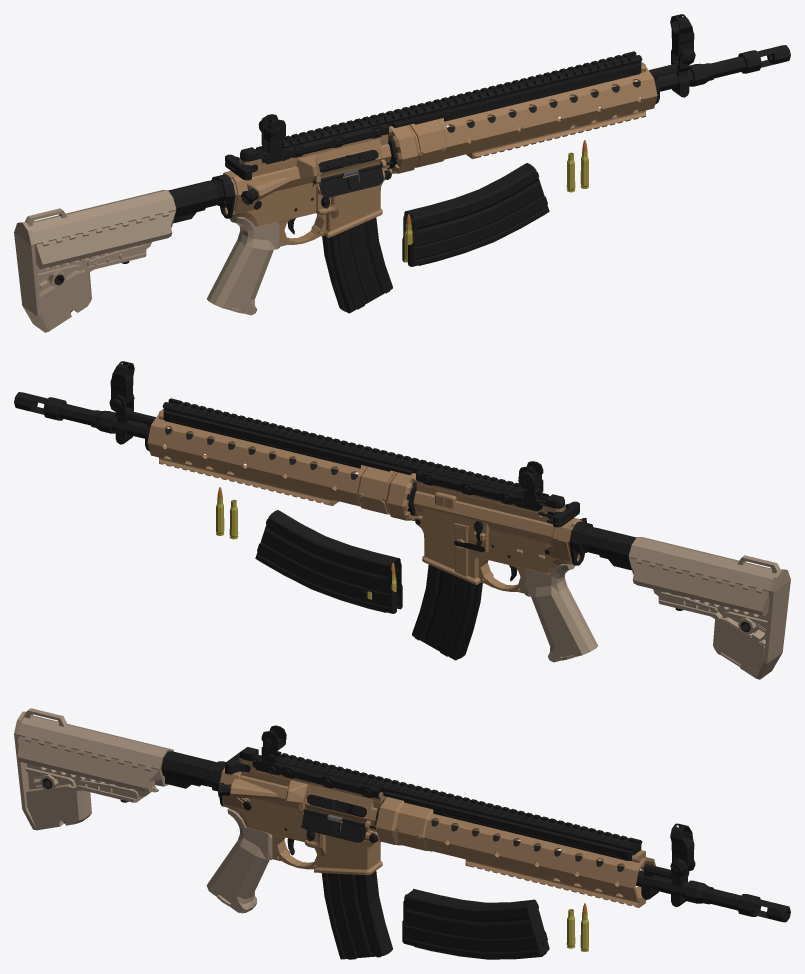
Rendered from gub.glb.
3 views of the same model, one above another, from view 1: azimuth 30°, elevation 25°; view 2: azimuth 150°, elevation 25°; view 3: azimuth 330°, elevation 25° (orthographic).
Parts seen in each view (by area): view 1: mk12a5 stock_10, mk12a5 handguard (bcm)_4, mk12a5 top rail_6, 55645 ar15 30rnd mag (steel)_8, mk12a5 lower receiver_15, 55645 ar15 30rnd mag empty (steel)_19, mk12a5 upper receiver_18, mk12a5 pistol grip_3, mk12a5 flash hider_5, mk12a5 barrel 18in _2, mk12a5 back iron sight_7, mk12a5 dust covet.002_11 (+2 smaller); view 2: mk12a5 stock_10, mk12a5 handguard (bcm)_4, mk12a5 top rail_6, 55645 ar15 30rnd mag (steel)_8, mk12a5 lower receiver_15, mk12a5 upper receiver_18, 55645 ar15 30rnd mag empty (steel)_19, mk12a5 pistol grip_3, mk12a5 flash hider_5, mk12a5 barrel 18in _2, mk12a5 back iron sight_7, mk12a5 front iron sight_9; view 3: mk12a5 stock_10, mk12a5 handguard (bcm)_4, mk12a5 top rail_6, 55645 ar15 30rnd mag (steel)_8, mk12a5 lower receiver_15, 55645 ar15 30rnd mag empty (steel)_19, mk12a5 upper receiver_18, mk12a5 pistol grip_3, mk12a5 flash hider_5, mk12a5 barrel 18in _2, mk12a5 dust covet.002_11, mk12a5 back iron sight_7 (+2 smaller).
Boxes of the visible parts, <box> form: mk12a5 stock_10: <box>14,190,176,332</box>; mk12a5 handguard (bcm)_4: <box>387,62,657,173</box>; mk12a5 top rail_6: <box>279,51,642,157</box>; 55645 ar15 30rnd mag (steel)_8: <box>402,163,549,266</box>; mk12a5 lower receiver_15: <box>168,168,391,246</box>; 55645 ar15 30rnd mag empty (steel)_19: <box>322,217,392,313</box>; mk12a5 upper receiver_18: <box>239,130,391,204</box>; mk12a5 pistol grip_3: <box>207,217,279,315</box>; mk12a5 flash hider_5: <box>689,45,790,86</box>; mk12a5 barrel 18in _2: <box>377,47,695,154</box>; mk12a5 back iron sight_7: <box>240,114,289,164</box>; mk12a5 dust covet.002_11: <box>313,161,393,197</box>; mk12a5 stock_10: <box>628,537,790,679</box>; mk12a5 handguard (bcm)_4: <box>147,409,417,520</box>; mk12a5 top rail_6: <box>162,398,525,504</box>; 55645 ar15 30rnd mag (steel)_8: <box>255,510,402,613</box>; mk12a5 lower receiver_15: <box>415,515,636,593</box>; mk12a5 upper receiver_18: <box>413,477,586,546</box>; 55645 ar15 30rnd mag empty (steel)_19: <box>412,564,482,660</box>; mk12a5 pistol grip_3: <box>525,564,597,662</box>; mk12a5 flash hider_5: <box>14,392,115,433</box>; mk12a5 barrel 18in _2: <box>109,394,357,479</box>; mk12a5 back iron sight_7: <box>515,461,564,511</box>; mk12a5 front iron sight_9: <box>110,361,134,408</box>; mk12a5 stock_10: <box>14,708,173,830</box>; mk12a5 handguard (bcm)_4: <box>375,796,655,907</box>; mk12a5 top rail_6: <box>275,753,642,860</box>; 55645 ar15 30rnd mag (steel)_8: <box>402,888,549,959</box>; mk12a5 lower receiver_15: <box>161,751,382,875</box>; 55645 ar15 30rnd mag empty (steel)_19: <box>321,871,392,959</box>; mk12a5 upper receiver_18: <box>218,757,385,831</box>; mk12a5 pistol grip_3: <box>206,808,272,913</box>; mk12a5 flash hider_5: <box>684,880,790,922</box>; mk12a5 barrel 18in _2: <box>383,798,695,906</box>; mk12a5 dust covet.002_11: <box>298,808,375,842</box>; mk12a5 back iron sight_7: <box>240,725,286,775</box>.
Size of the model in its own units: 9.71 by 2.59 by 0.6698.
